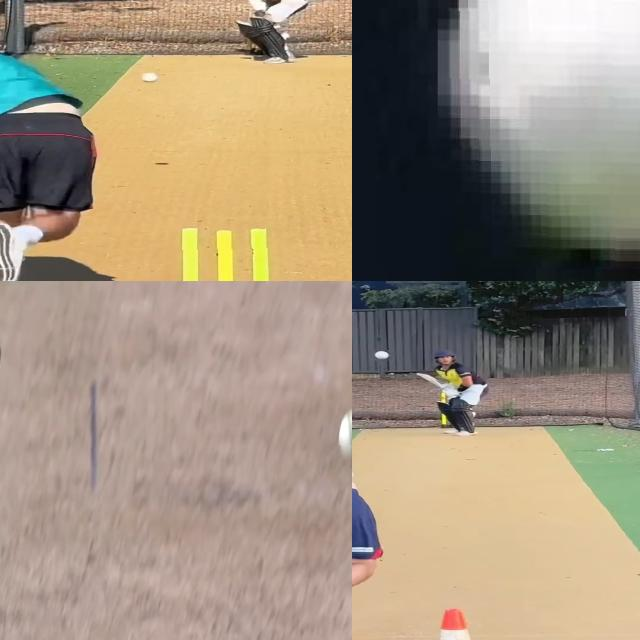Cricket ball: (441, 0, 640, 267), (337, 410, 352, 465), (370, 347, 392, 364), (139, 71, 161, 84)
Stumps: (163, 226, 289, 281)
